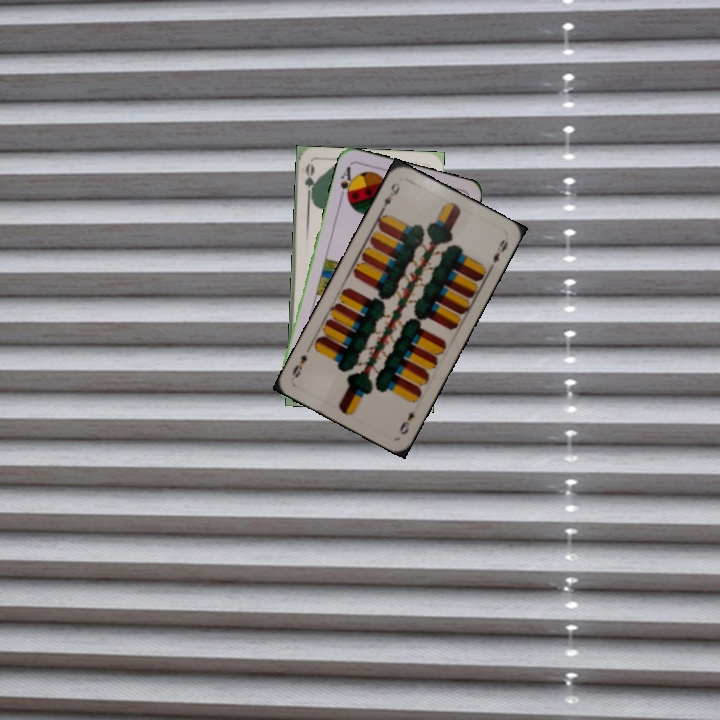E9: (377, 179, 403, 215), (395, 406, 419, 438)
GO: (301, 161, 318, 202)
SA: (336, 162, 357, 203)
